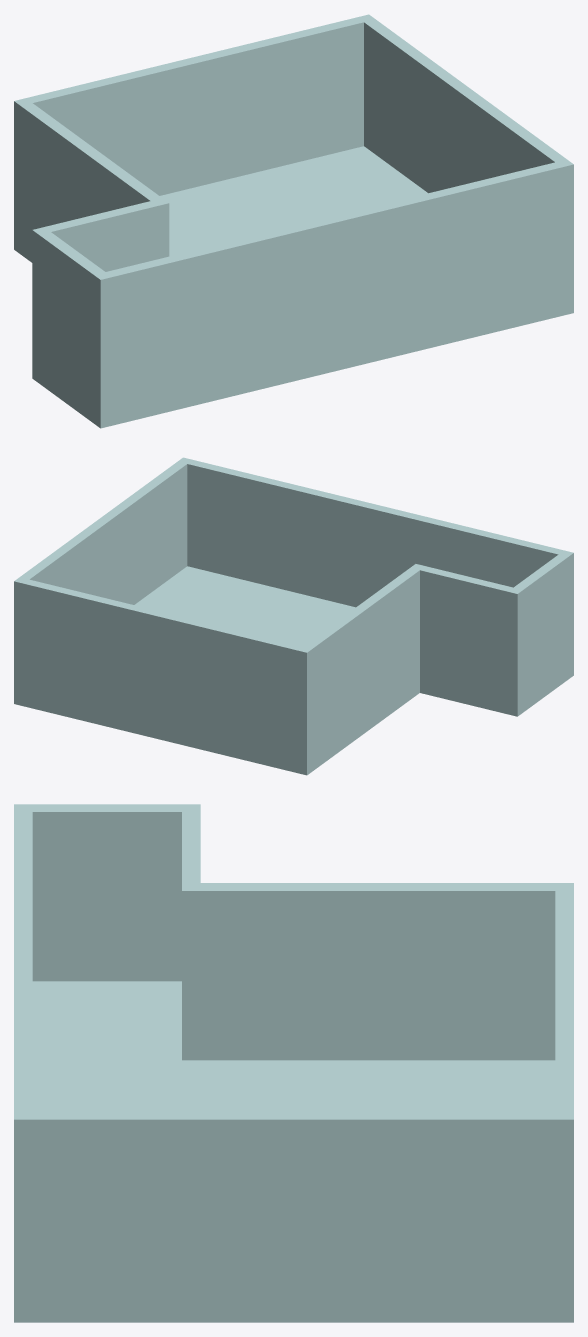
Rendered from Badezimmer.fbx.
3 views of the same model, one above another, from view 1: azimuth 30°, elevation 25°; view 2: azimuth 150°, elevation 25°; view 3: azimuth 270°, elevation 25° (orthographic). The views are drawn at different scales.
Parts seen in each view (by area): view 1: Badezimmerwand1, Badezimmerwand3, Badezimmerboden, Badezimmerwand2, Badezimmerwand4, Badezimmerwand6, Badezimmerwand5; view 2: Badezimmerwand3, Badezimmerwand1, Badezimmerboden, Badezimmerwand4, Badezimmerwand2, Badezimmerwand5, Badezimmerwand6; view 3: Badezimmerwand2, Badezimmerwand4, Badezimmerboden, Badezimmerwand6, Badezimmerwand1, Badezimmerwand3, Badezimmerwand5.
Boxes of the visible parts, bbox=[...] form: Badezimmerwand1: bbox=[100, 162, 573, 403]; Badezimmerwand3: bbox=[15, 14, 368, 195]; Badezimmerboden: bbox=[14, 146, 573, 428]; Badezimmerwand2: bbox=[364, 14, 573, 193]; Badezimmerwand4: bbox=[14, 101, 168, 237]; Badezimmerwand6: bbox=[32, 230, 105, 403]; Badezimmerwand5: bbox=[33, 201, 169, 271]; Badezimmerwand3: bbox=[14, 579, 306, 754]; Badezimmerwand1: bbox=[183, 457, 573, 607]; Badezimmerboden: bbox=[14, 566, 573, 775]; Badezimmerwand4: bbox=[303, 564, 419, 754]; Badezimmerwand2: bbox=[14, 458, 187, 604]; Badezimmerwand5: bbox=[416, 564, 517, 696]; Badezimmerwand6: bbox=[513, 553, 573, 695]; Badezimmerwand2: bbox=[14, 1112, 573, 1288]; Badezimmerwand4: bbox=[182, 883, 573, 1060]; Badezimmerboden: bbox=[14, 981, 573, 1322]; Badezimmerwand6: bbox=[15, 804, 199, 981]; Badezimmerwand1: bbox=[14, 804, 32, 1119]; Badezimmerwand3: bbox=[555, 883, 573, 1119]; Badezimmerwand5: bbox=[182, 804, 200, 890].
Bounding box in the file's own units: 4 × 1.2 × 3.
